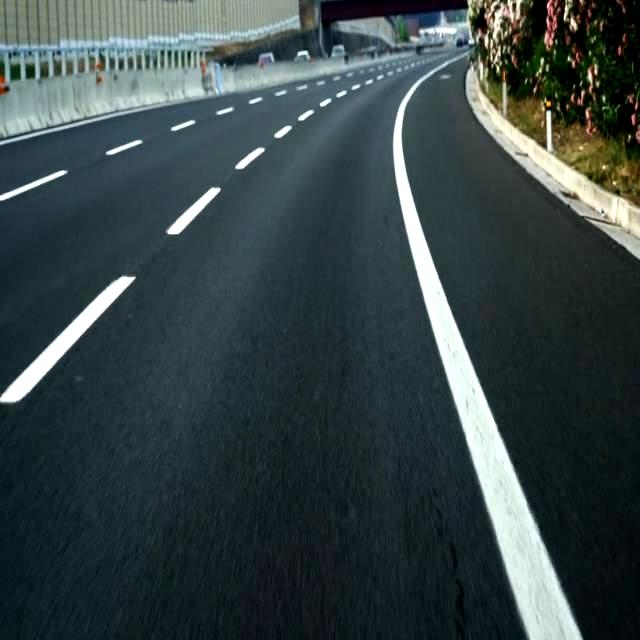lane: (392, 55, 581, 639), (166, 188, 221, 235), (1, 170, 69, 202), (235, 148, 265, 169), (105, 139, 142, 156)
road: (0, 59, 526, 639), (403, 60, 639, 639)
